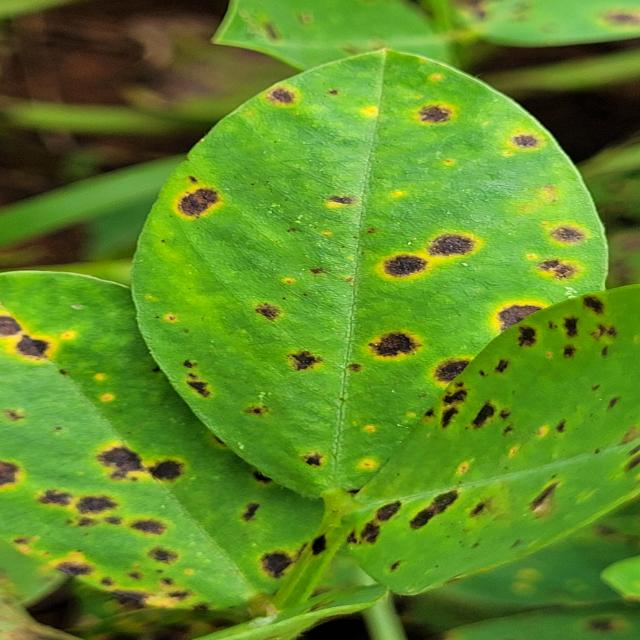Ground nut_tikka leaf spot: (130, 42, 616, 519)
